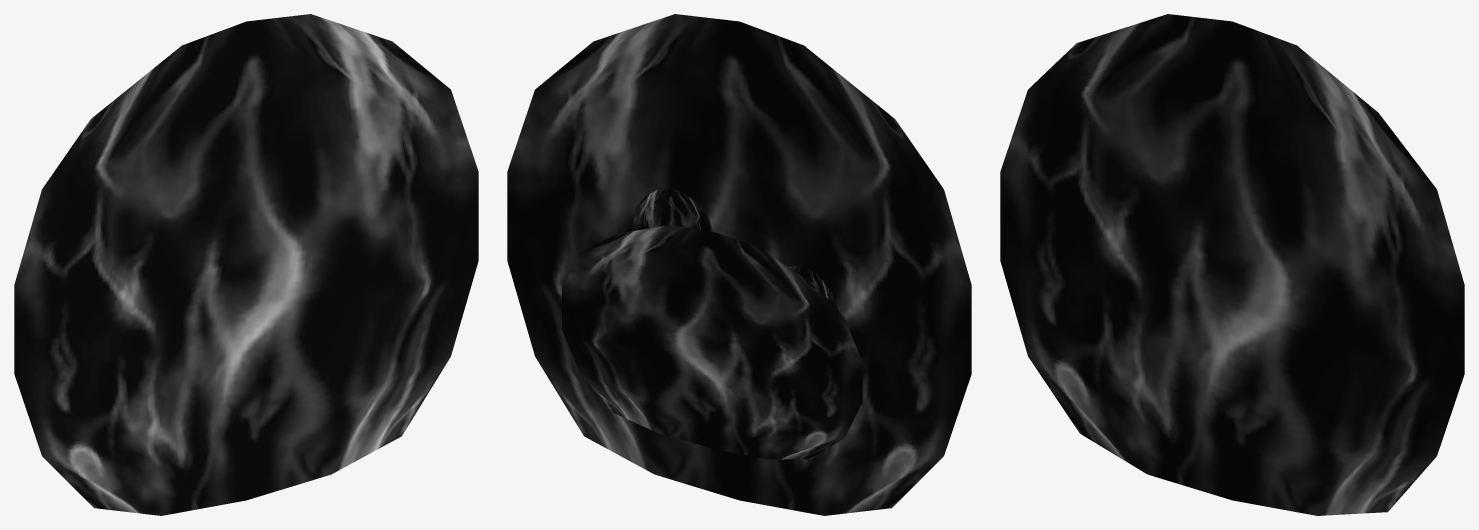
File: CA_Lord_98.fbx
3 views of the same model, side by side, from view 1: azimuth 30°, elevation 25°; view 2: azimuth 150°, elevation 25°; view 3: azimuth 330°, elevation 25° (orthographic).
Parts seen in each view (by area): view 1: Mesh_Aura01; view 2: Mesh_Aura01, Mesh_Aura03, Mesh_Aura01_2; view 3: Mesh_Aura01.
Part boxes in pixels (x1,y1,x2,y2): Mesh_Aura01: (14, 14, 478, 515); Mesh_Aura01: (507, 14, 971, 515); Mesh_Aura03: (562, 225, 862, 459); Mesh_Aura01_2: (632, 188, 712, 231); Mesh_Aura01: (1000, 14, 1464, 515).
Bounding box in the file's own units: 941 × 928 × 95.7.
1 material, 1 textured.
